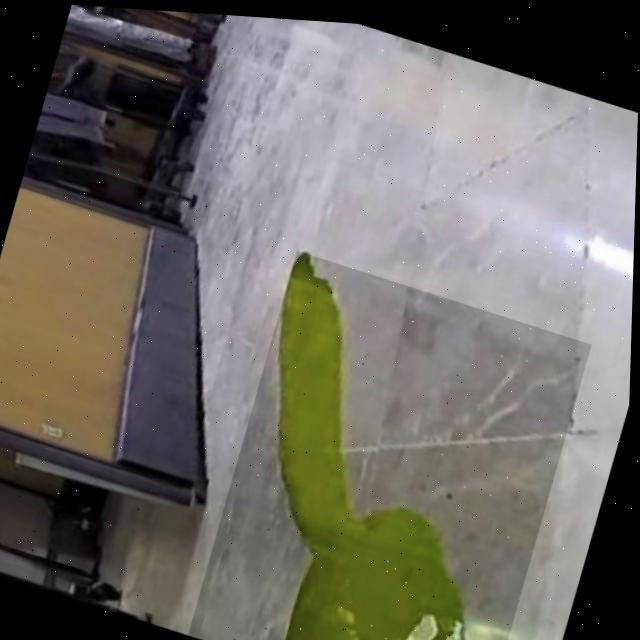spillage: (281, 248, 472, 640)
